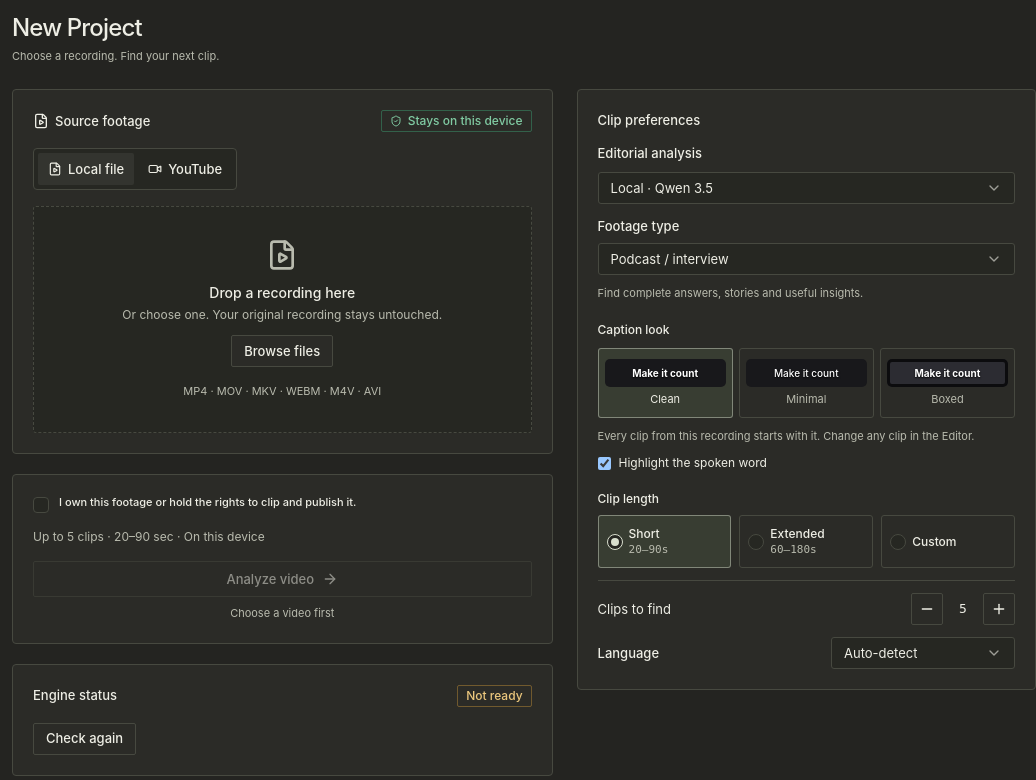
Test: the New Project screen › requires the rights attestation and says so
Click the button "Browse files" at (282, 351), box [231, 335, 333, 367]
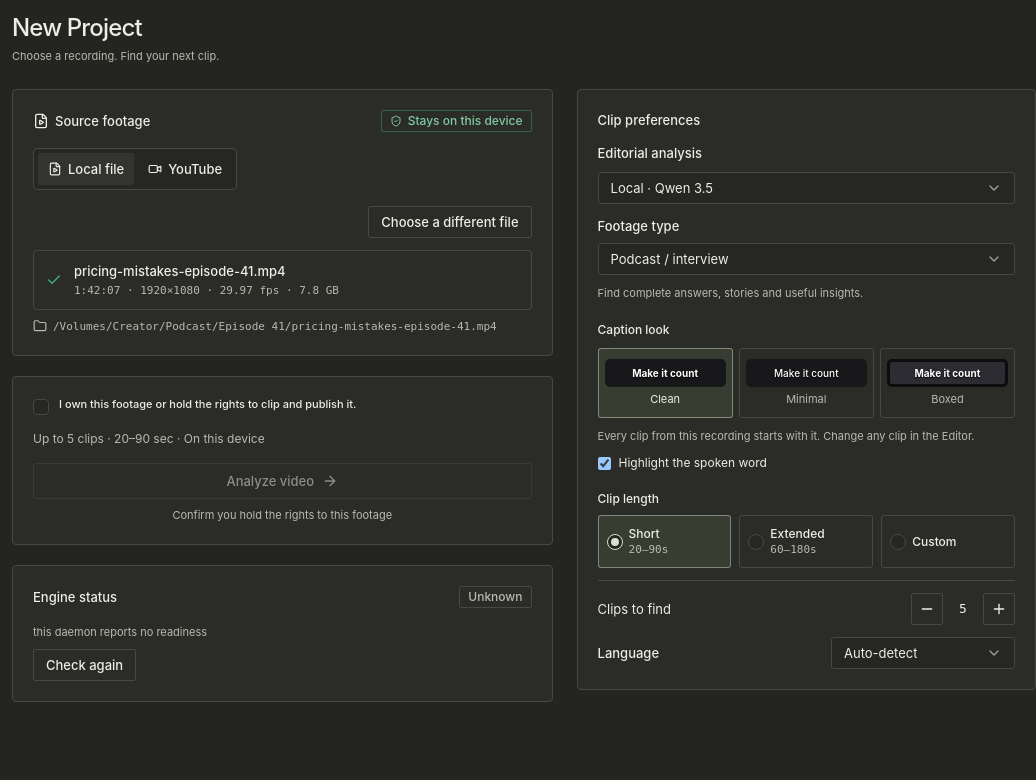
Expected: the button "Analyze video" is disabled, [33, 463, 532, 499]
Expected: the text "pricing-mistakes-episode-41.mp4" is shown, [74, 263, 286, 279]
Expected: the text "Confirm you hold the rights to this footage" is shown, [172, 508, 392, 522]
Click the checkbox named "I own this footage" at (41, 407), box [33, 399, 49, 415]
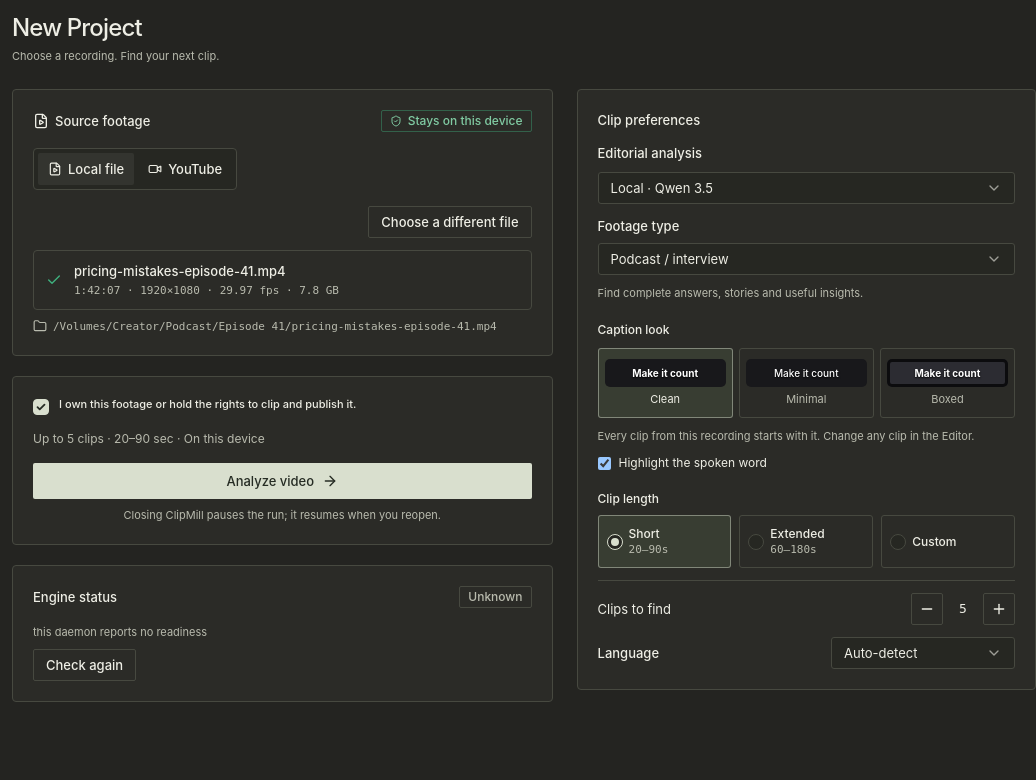
Expected: the button "Analyze video" is enabled, [33, 463, 532, 499]
